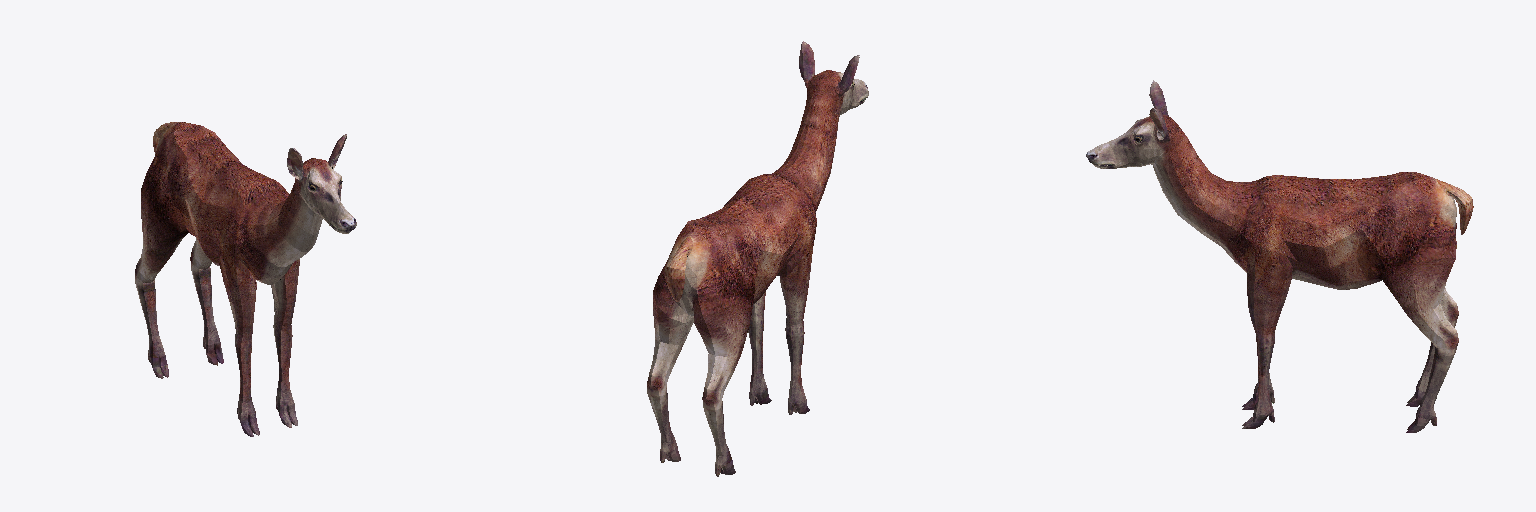
3 views of the same model, side by side, from view 1: azimuth 30°, elevation 25°; view 2: azimuth 150°, elevation 25°; view 3: azimuth 270°, elevation 25° (orthographic).
Visible parts, largest first — view 1: Body_body, Head_head; view 2: Body_body, Head_head; view 3: Body_body, Head_head.
Boxes of the visible parts, <box> form: Body_body: <box>135,122,322,436</box>; Head_head: <box>287,134,356,233</box>; Body_body: <box>647,79,842,476</box>; Head_head: <box>799,41,868,114</box>; Body_body: <box>1151,118,1473,432</box>; Head_head: <box>1086,80,1171,168</box>.
Size of the model in its own units: 1.53 by 5.66 by 6.14.
Materials: 3 (2 with a texture image).